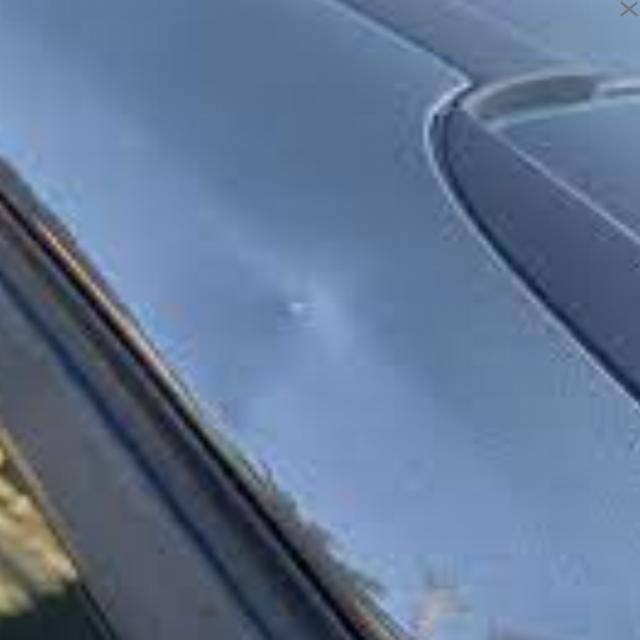dents: (182, 362, 298, 469), (266, 290, 336, 336)
